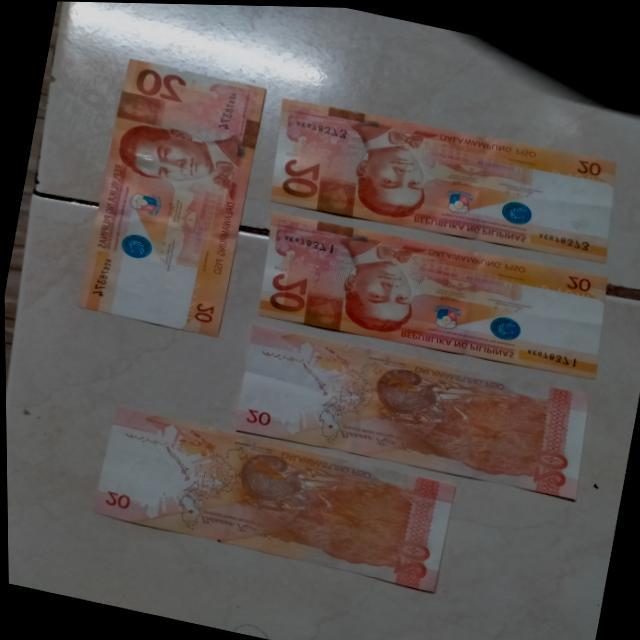concealed_value: (116, 82, 172, 127), (312, 173, 360, 219)
serial_number: (516, 339, 593, 373), (87, 252, 127, 306), (532, 222, 605, 251)
value: (260, 260, 317, 319), (274, 151, 328, 206), (128, 60, 188, 106)
value_watermark: (248, 364, 265, 379)
